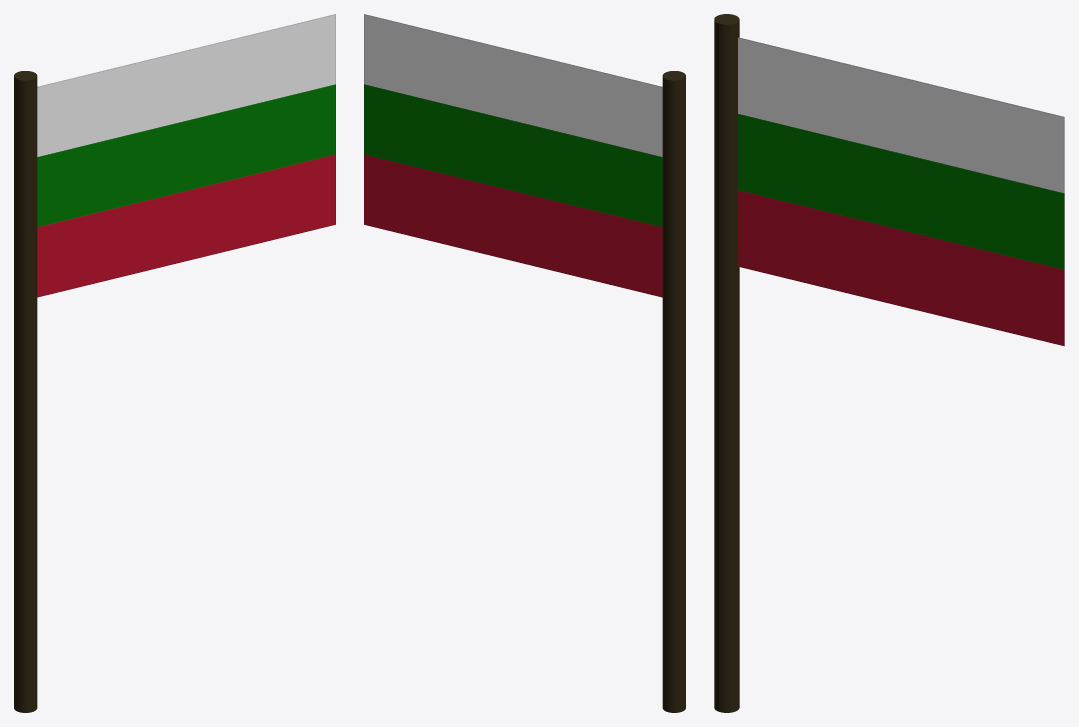
The model's file is Bulgaria.glb.
3 views of the same model, side by side, from view 1: azimuth 30°, elevation 25°; view 2: azimuth 150°, elevation 25°; view 3: azimuth 330°, elevation 25° (orthographic). The views are drawn at different scales.
Visible parts, largest first — view 1: Plane, Cylinder; view 2: Plane, Cylinder; view 3: Plane, Cylinder.
Boxes of the visible parts, bbox=[...] form: Plane: bbox=[37, 14, 335, 297]; Cylinder: bbox=[14, 71, 37, 712]; Plane: bbox=[364, 14, 662, 297]; Cylinder: bbox=[662, 71, 685, 712]; Plane: bbox=[738, 37, 1064, 346]; Cylinder: bbox=[714, 14, 739, 712].
Size of the model in its own units: 3.18 by 6 by 0.2.
2 materials, 1 textured.
